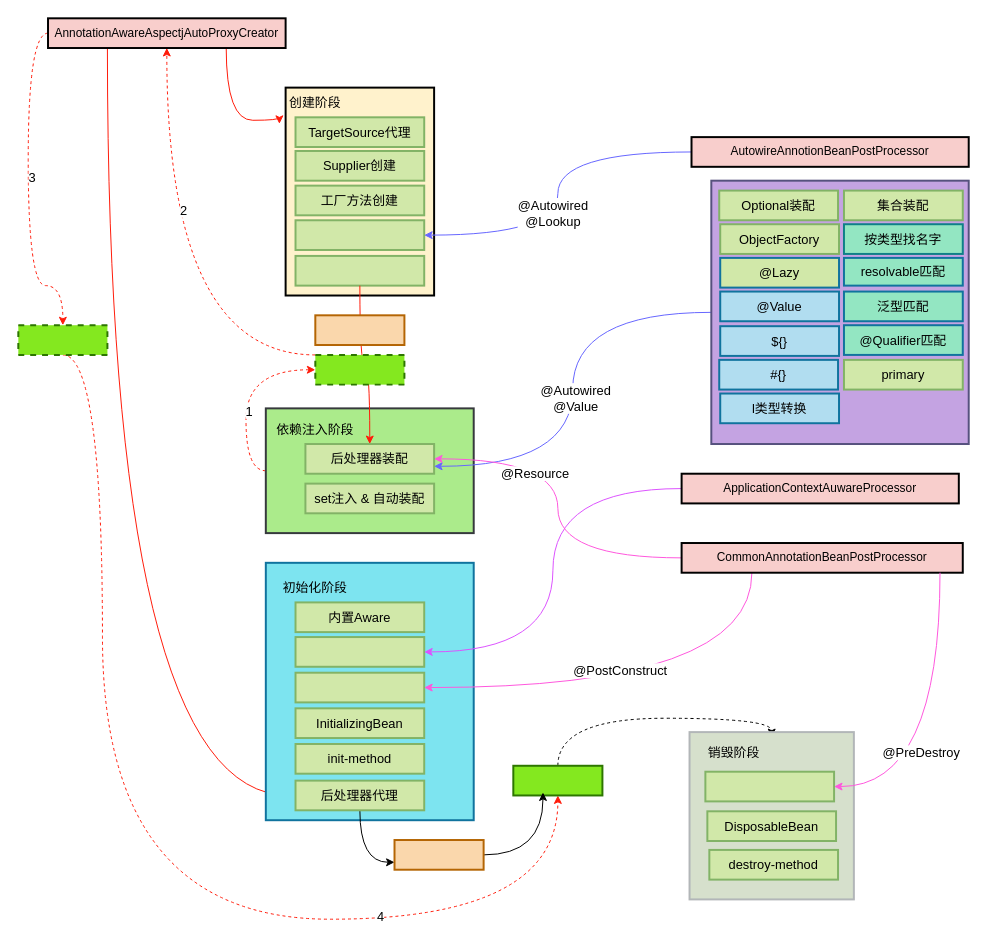
The diagram is 986 pixels wide and 941 high, and some of its shapes have lost their labels. Here are the shapes that lost their labels. From the top down, the centre of each, then its label:
At [359,234]: "autowire 构造器".
At [359,270]: "默认构造器".
At [62,339]: "提前对象池".
At [359,330]: "原始对象".
At [359,369]: "单例工厂池".
At [359,651]: "后处理器 Aware".
At [359,687]: "后处理器初始化".
At [557,780]: "单例池".
At [769,786]: "后处理器销毁".
At [438,854]: "加工后对象".
